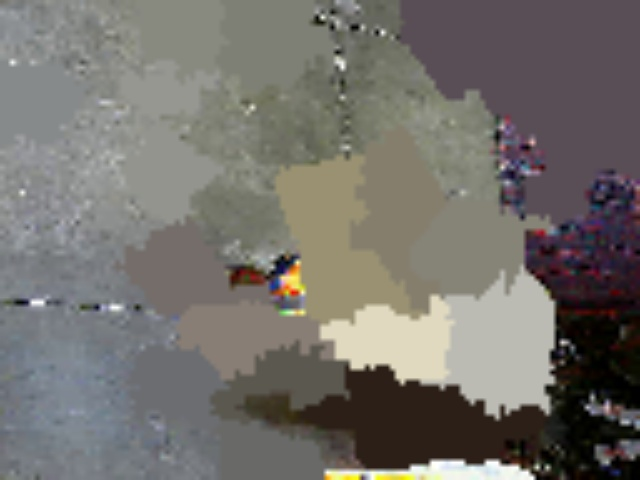eight: (488, 329, 547, 363)
